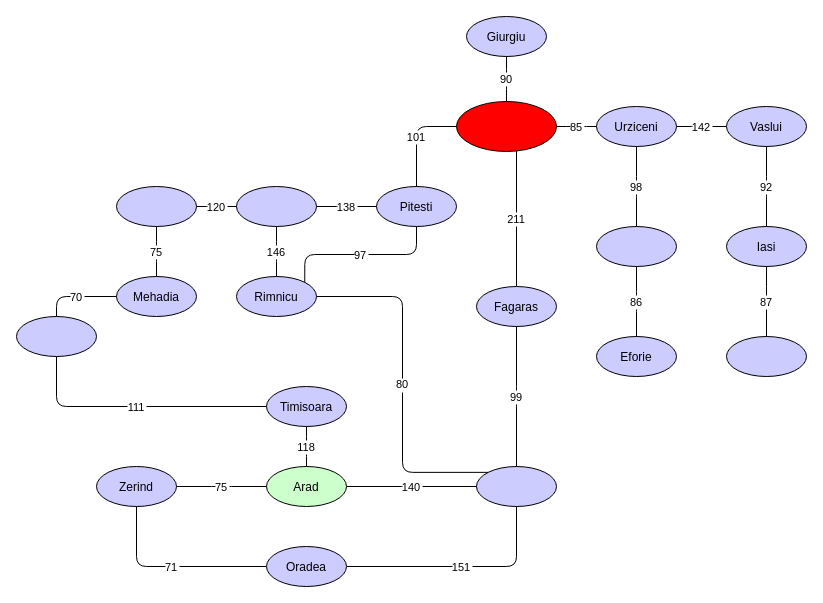
Some shapes in this 823 by 603 pixel diagram are drawn without their labels. The box of each missing label's shape, as (x1, y1, x2, y2) in pixels:
Bucharest: (456, 100, 556, 152)
Craiova: (236, 186, 316, 226)
Drobeta: (116, 186, 196, 226)
Hirsova: (596, 226, 676, 266)
Lugoj: (16, 316, 96, 356)
Neamt: (726, 336, 806, 376)
Sibiu: (476, 466, 556, 506)
